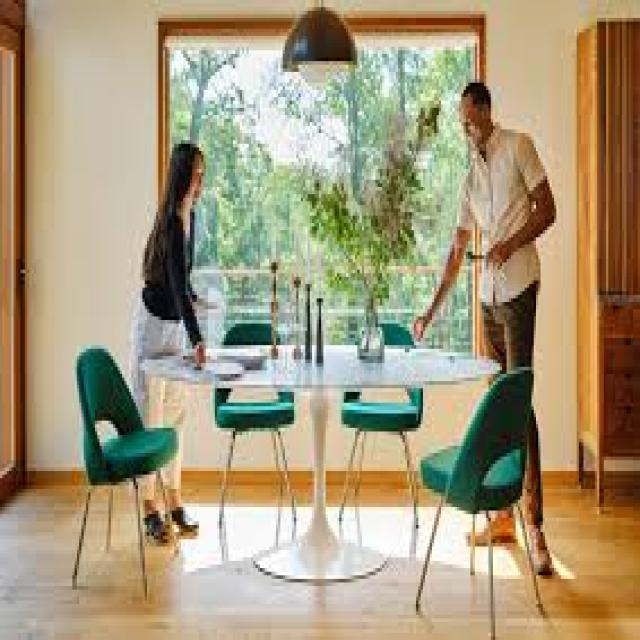chair: (403, 349, 563, 640), (56, 339, 185, 606), (315, 285, 441, 553), (198, 305, 324, 568)
